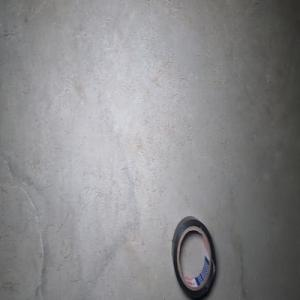Tape: (171, 215, 216, 299)
